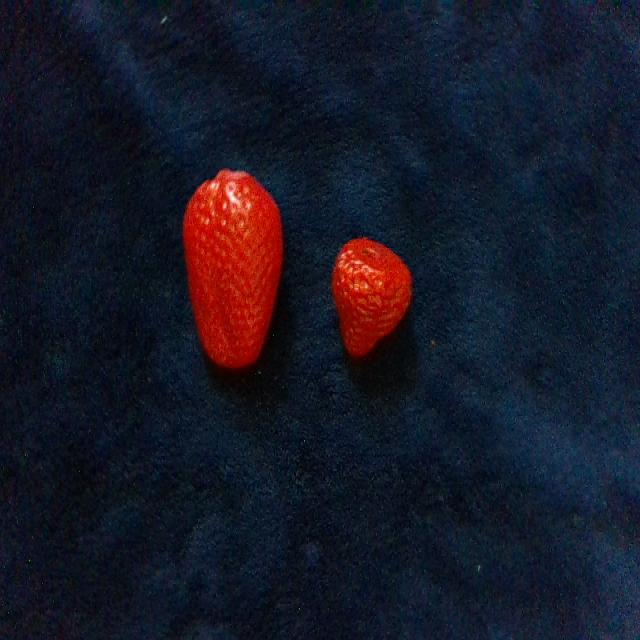chica_roja: (332, 240, 410, 355)
grande_roja: (184, 169, 282, 368)
